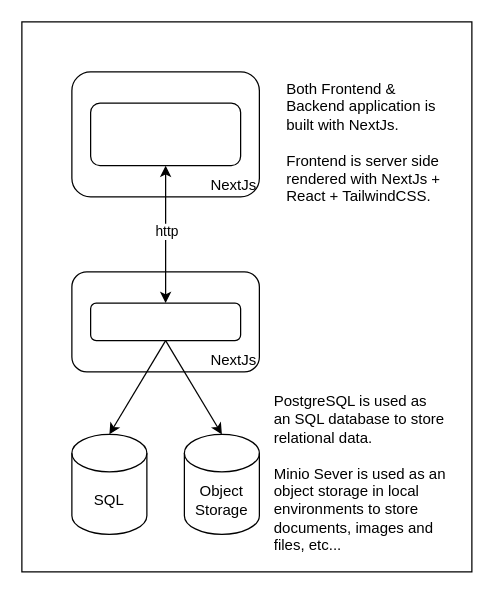
Some shapes in this 494 by 598 pixel diagram are drawn without their labels. The centre of each missing label's shape, as x and y in pixels:
Api: the point at 165,321
Frontend SSR + React: the point at 165,134
